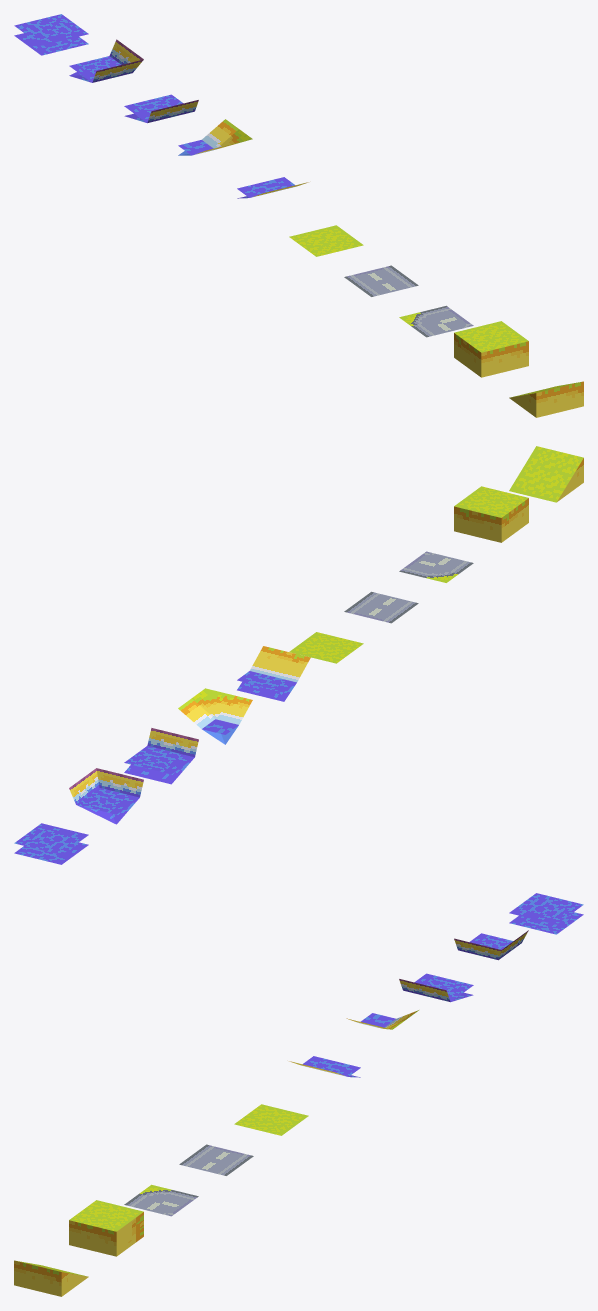
Rendered from terrain-tiles.glb.
3 renders of one model, top to bottom at view 1: azimuth 30°, elevation 25°; view 2: azimuth 150°, elevation 25°; view 3: azimuth 330°, elevation 25°, orthographic.
Parts seen in each view (by area): view 1: elevation-col, see-col, ramp-col, coast-2-col, plane-col, road-col, road-curve-col, coast-col, beach-2-col, beach-col; view 2: elevation-col, ramp-col, coast-2-col, coast-col, beach-col, beach-2-col, see-col, road-col, plane-col, road-curve-col; view 3: elevation-col, see-col, ramp-col, plane-col, road-col, road-curve-col, coast-col, coast-2-col, beach-col, beach-2-col.
Boxes of the visible parts, box(x1,y1,x2,y2) form: elevation-col: box(454, 321, 528, 377); see-col: box(14, 14, 88, 55); ramp-col: box(509, 381, 583, 417); coast-2-col: box(69, 39, 143, 82); plane-col: box(289, 225, 363, 256); road-col: box(344, 265, 418, 296); road-curve-col: box(399, 305, 473, 337); coast-col: box(124, 94, 198, 123); beach-2-col: box(178, 119, 252, 155); beach-col: box(237, 177, 308, 198); elevation-col: box(454, 486, 528, 542); ramp-col: box(509, 446, 583, 502); coast-2-col: box(69, 768, 143, 824); coast-col: box(124, 728, 198, 784); beach-col: box(237, 646, 310, 701); beach-2-col: box(178, 688, 252, 744); see-col: box(14, 823, 88, 864); road-col: box(344, 591, 418, 623); plane-col: box(289, 632, 363, 663); road-curve-col: box(399, 551, 473, 582); elevation-col: box(69, 1200, 143, 1256); see-col: box(509, 893, 583, 934); ramp-col: box(14, 1260, 88, 1296); plane-col: box(234, 1104, 308, 1135); road-col: box(179, 1144, 253, 1175); road-curve-col: box(124, 1184, 198, 1216); coast-col: box(399, 973, 473, 1002); coast-2-col: box(454, 930, 528, 960); beach-col: box(289, 1056, 360, 1077); beach-2-col: box(346, 1010, 418, 1029).
Size of the model in its own units: 1 by 0.5 by 19.
Materials: 4 (4 with a texture image).
